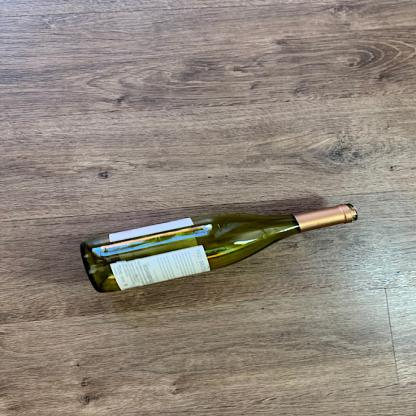trash: (72, 195, 361, 298)
